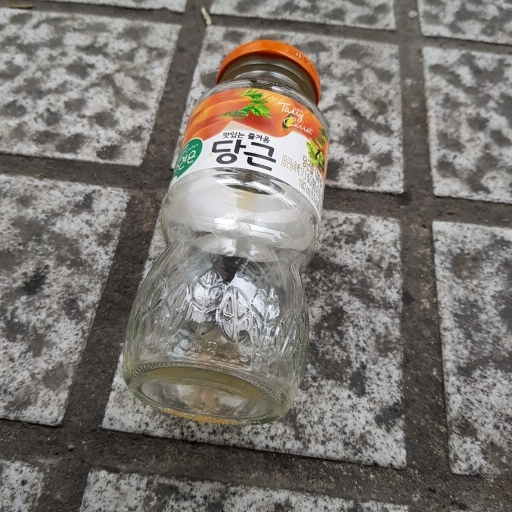Glass_4: (119, 39, 330, 423)
